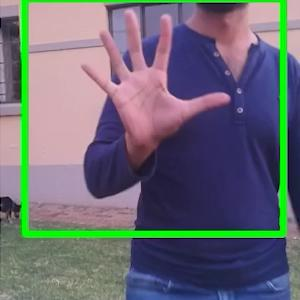follow_hand: (74, 5, 234, 151)
